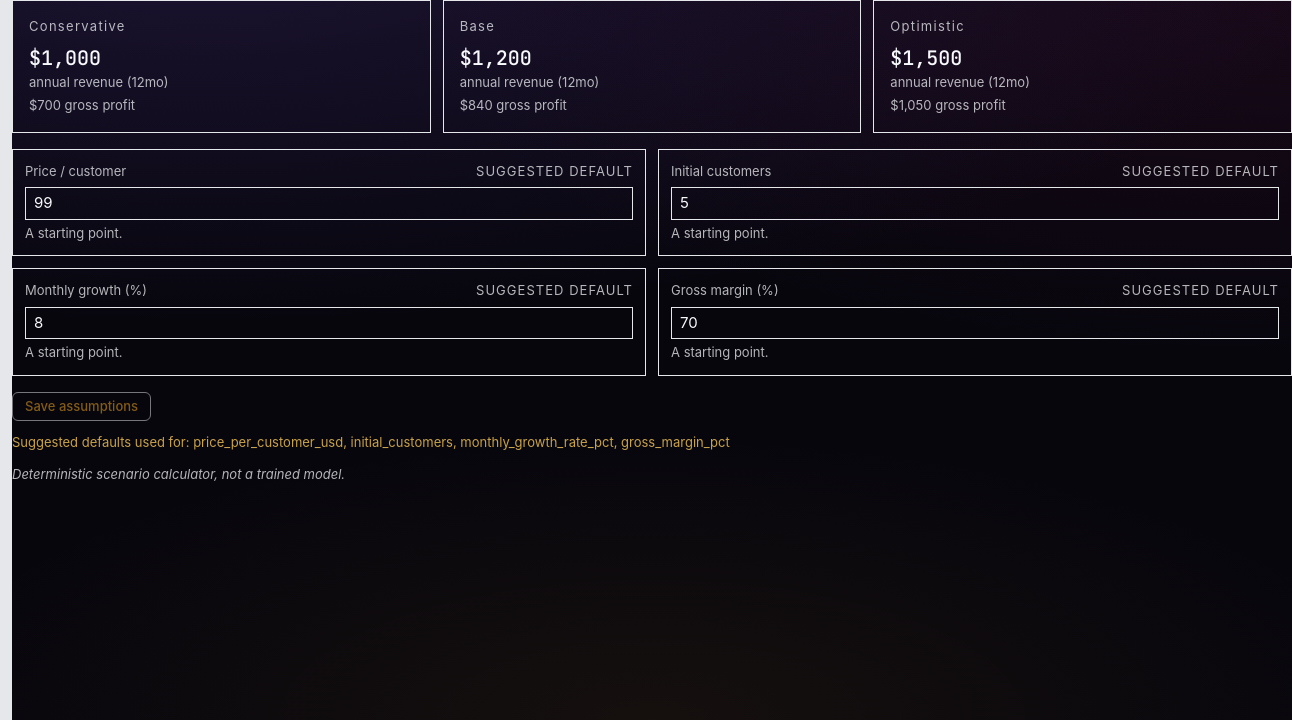
Test: RevenueScenarios — revenue assumption save flow (moved from AnalysisResult) › keeps the founder's draft visible and shows an error when the save request fails
The width and height of the screenshot is (1292, 720).
Replace the text in the number field labelled "Price / customer" with "310" at [329, 203], box [25,187,633,220]
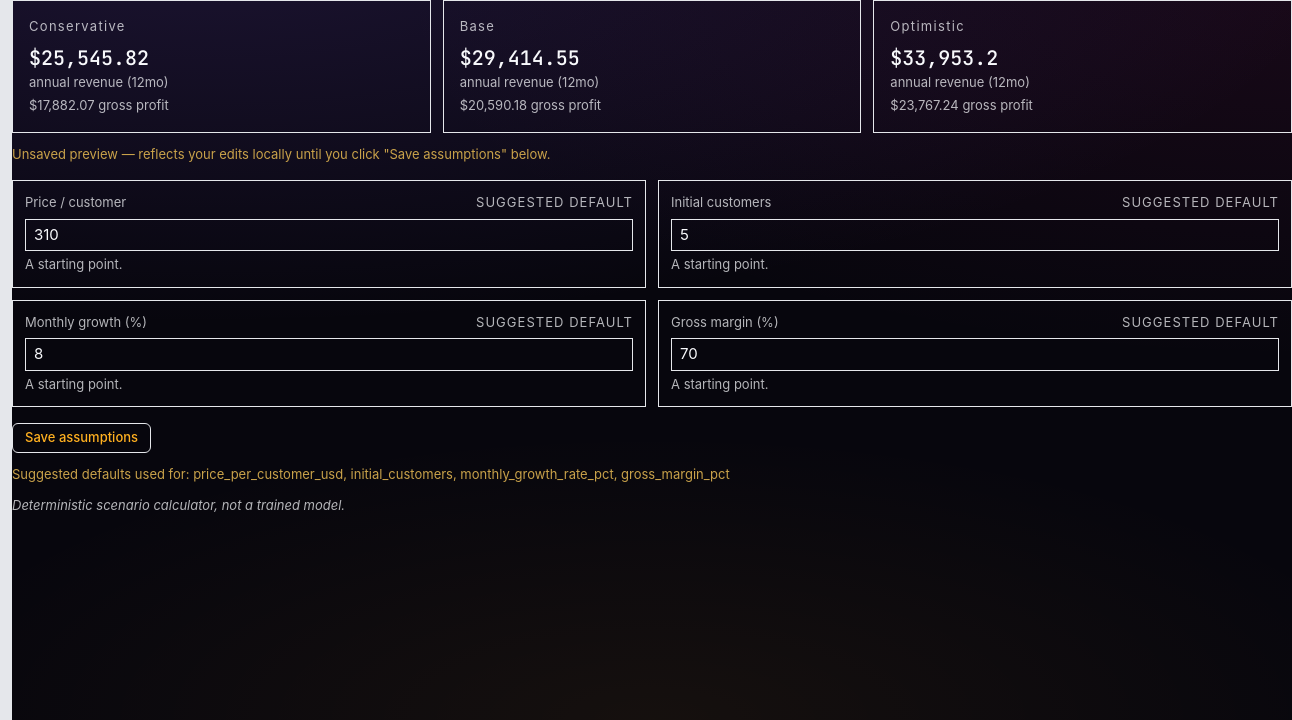
Click the button "Save assumptions" at [82, 438], box [12,423,151,452]
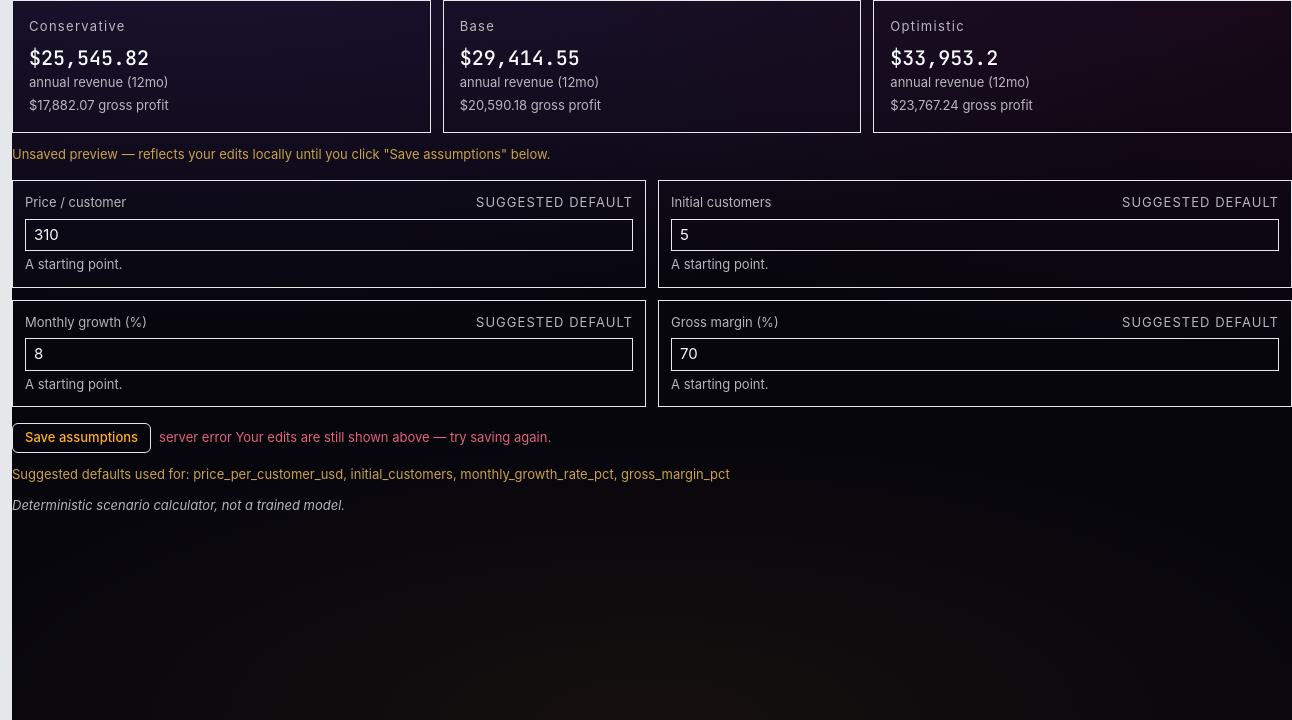
Expected: the message "server error Your edits are still shown above — try saving again." is shown, [159,428,551,448]
